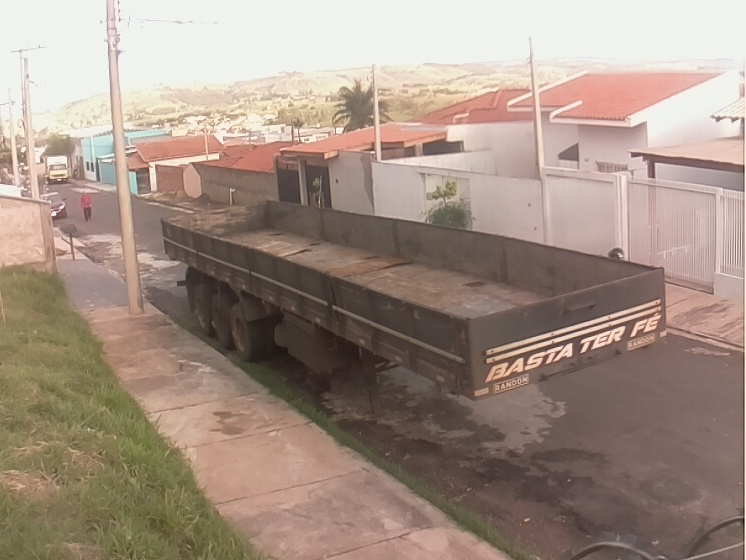person: (78, 189, 96, 225)
